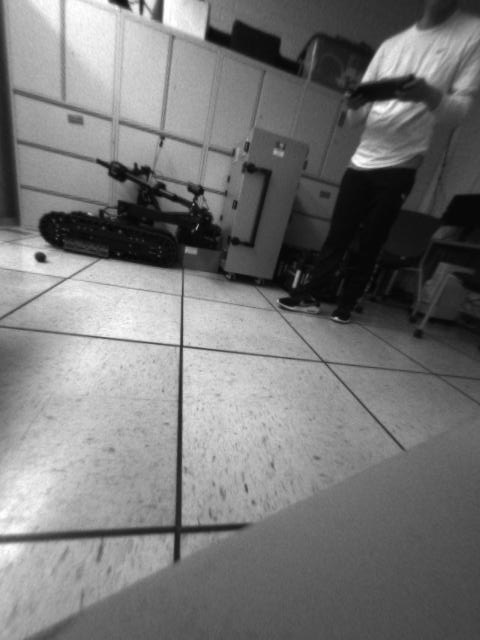dogtoy: (28, 245, 52, 267)
